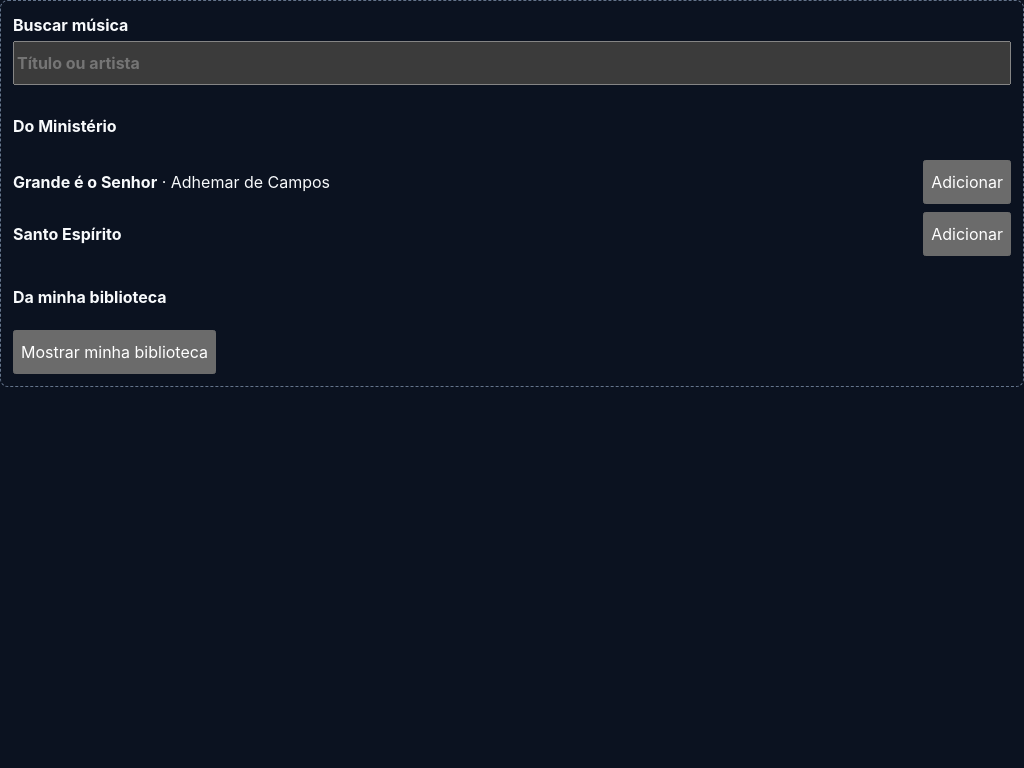
Scenario: SongPicker › keeps a song already added to the destination listed under "Da minha biblioteca"
Click the button "Mostrar minha biblioteca".
click(114, 352)  # box [13,330,216,374]
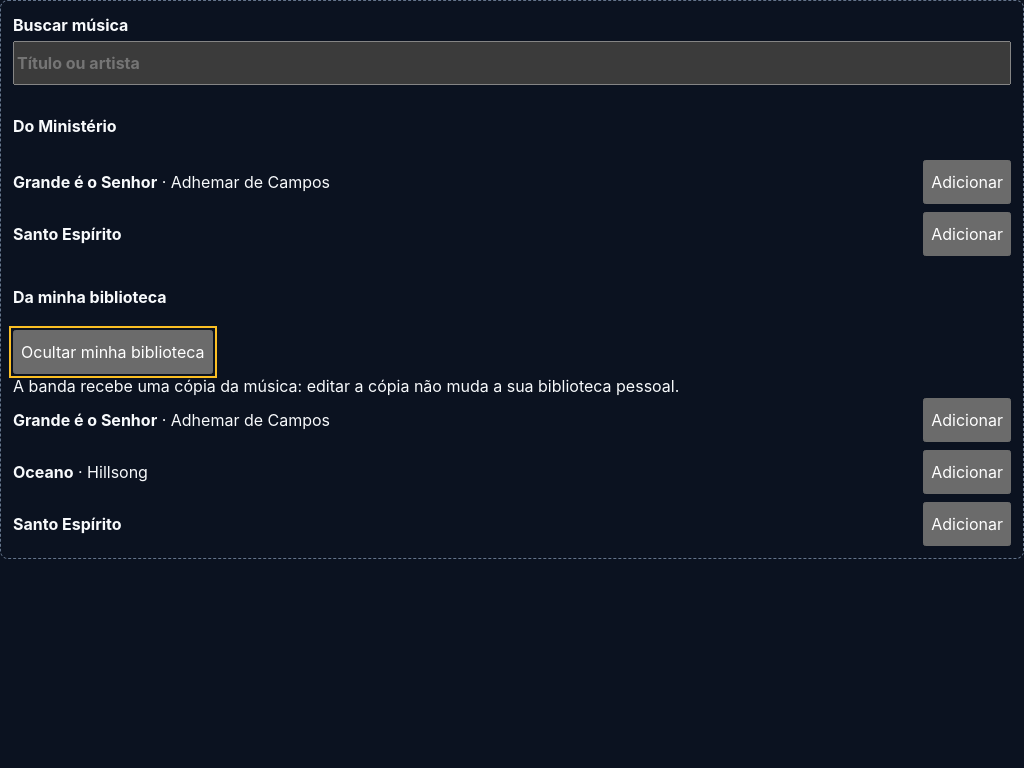
Result: the number of buttons named "Adicionar Oceano" is 1 at [923,450,1011,494]
